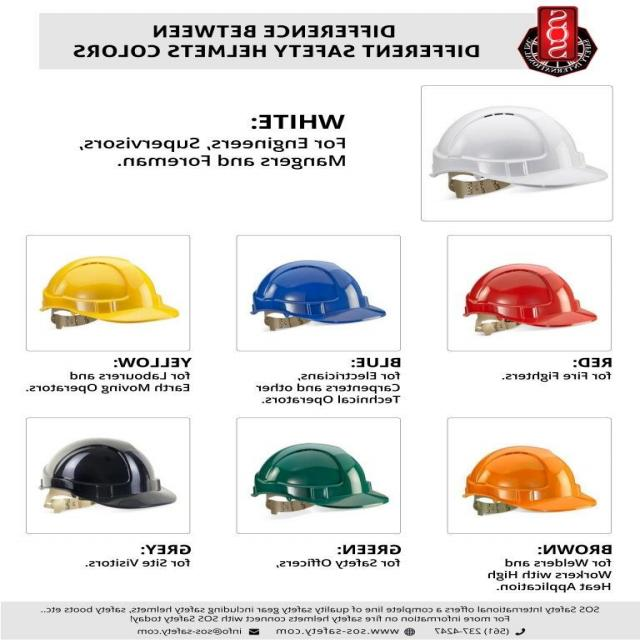Safety-Helmet: (420, 101, 608, 192), (32, 252, 182, 334), (33, 436, 178, 516), (456, 261, 600, 337), (245, 258, 388, 332), (247, 441, 389, 515), (460, 444, 598, 518)
